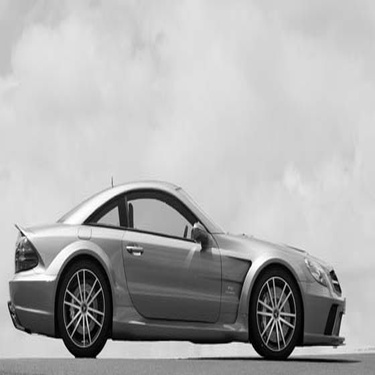car: (5, 162, 345, 363)
